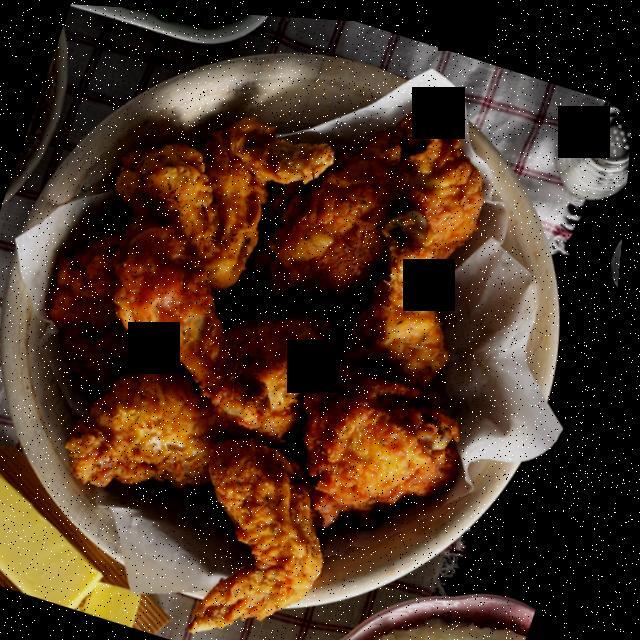Frango: (0, 10, 587, 640)
